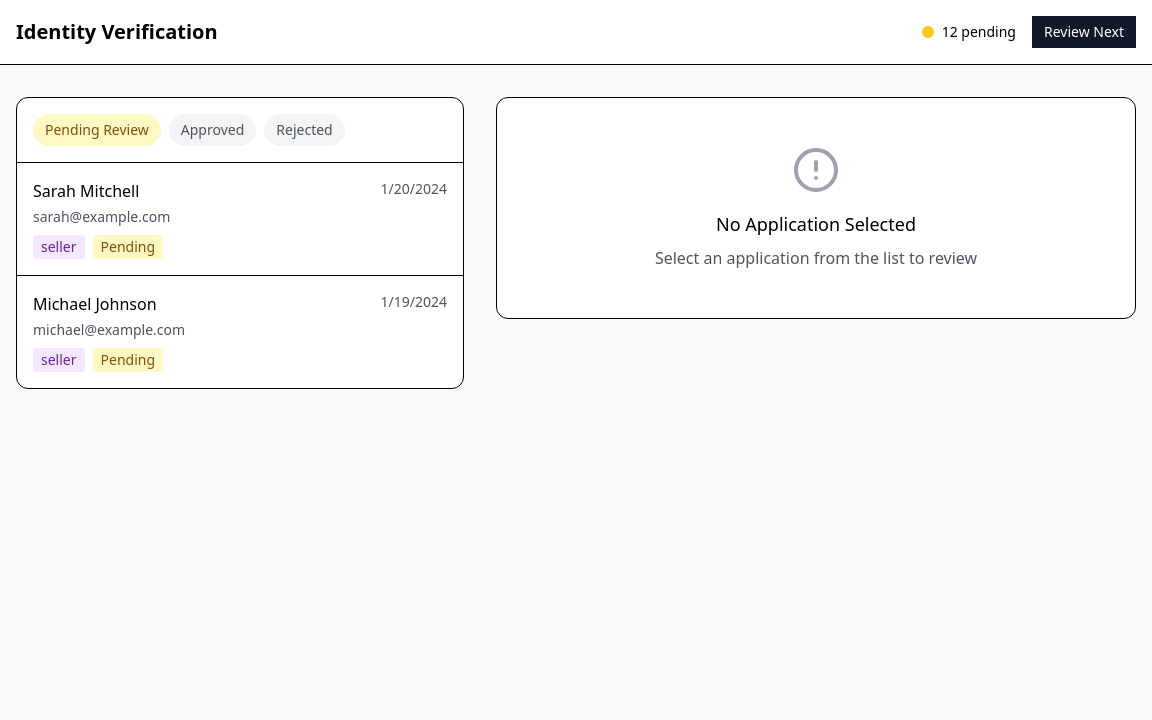
Test: AdminVerification › shows application details when selecting an application
The image size is (1152, 720).
Click the text "Sarah Mitchell".
click(86, 191)  # box [33,179,139,203]
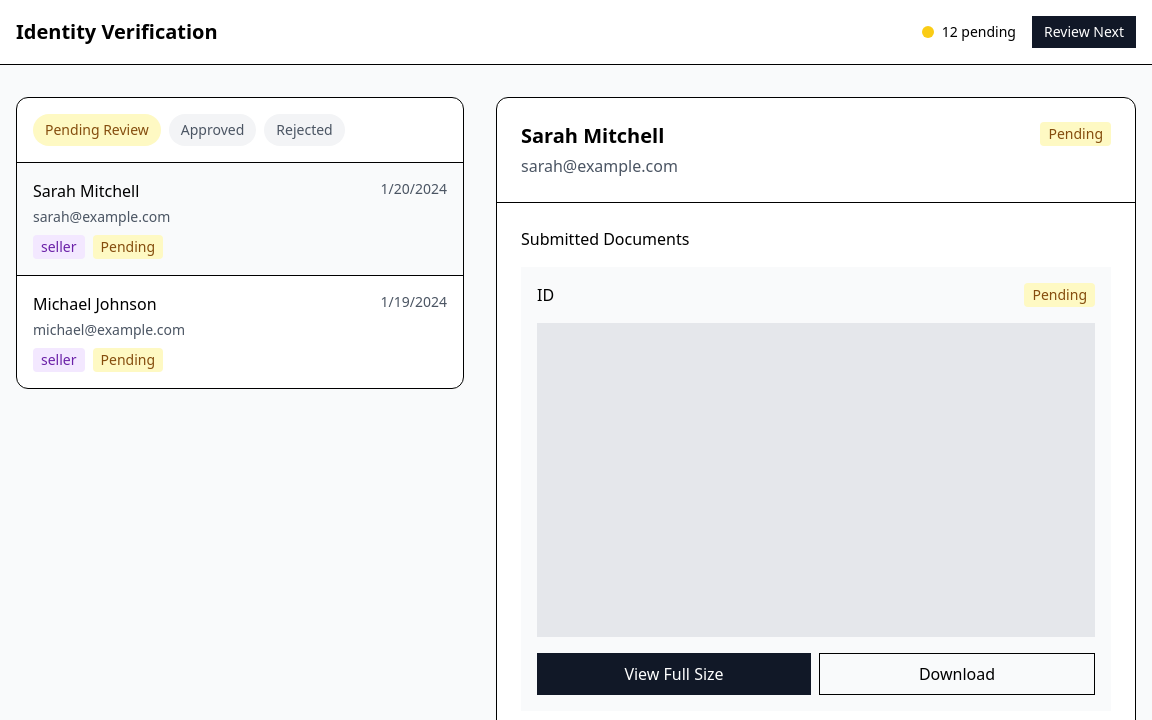
Expected: the heading "Submitted Documents" is shown, [521,228,689,250]
Expected: the number of buttons "View Full Size" is 2
